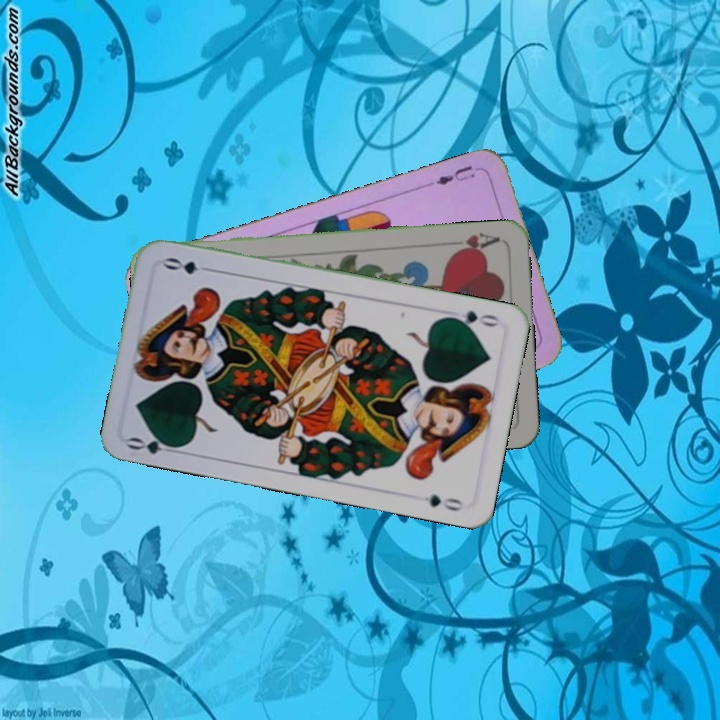EU: (432, 161, 478, 188)
GO: (123, 430, 184, 457), (444, 306, 501, 331)
HA: (444, 228, 503, 257)
